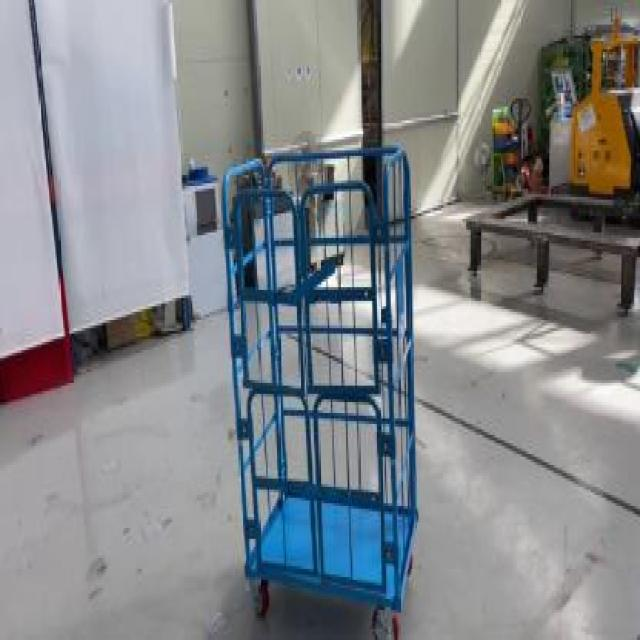cart: (220, 153, 417, 637)
